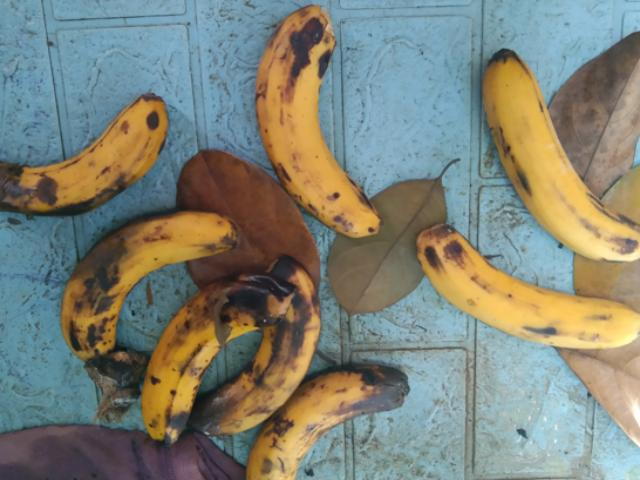overripe: (232, 0, 388, 242)
ripe: (466, 33, 639, 273), (404, 214, 639, 350)
rotten: (44, 186, 258, 369), (126, 273, 278, 453), (0, 84, 184, 219), (231, 366, 416, 479)
